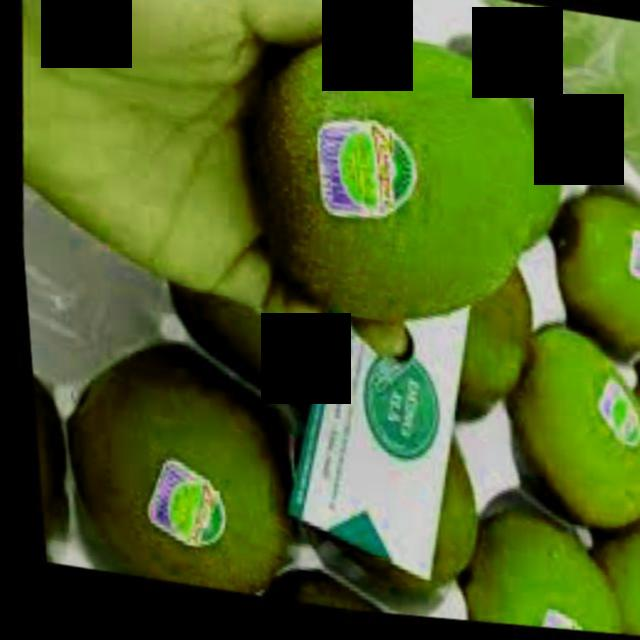kiwi: (230, 19, 549, 352), (42, 357, 301, 607), (492, 314, 640, 550), (448, 501, 620, 636), (531, 182, 640, 360)
